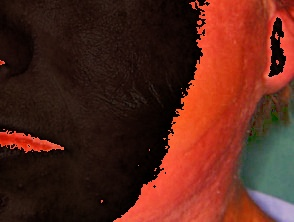SJS-TEN: (80, 7, 283, 177)
